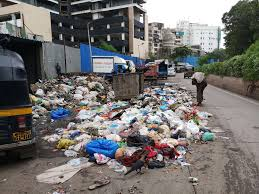garbage: (52, 100, 195, 151), (145, 85, 192, 165), (32, 77, 112, 116)
